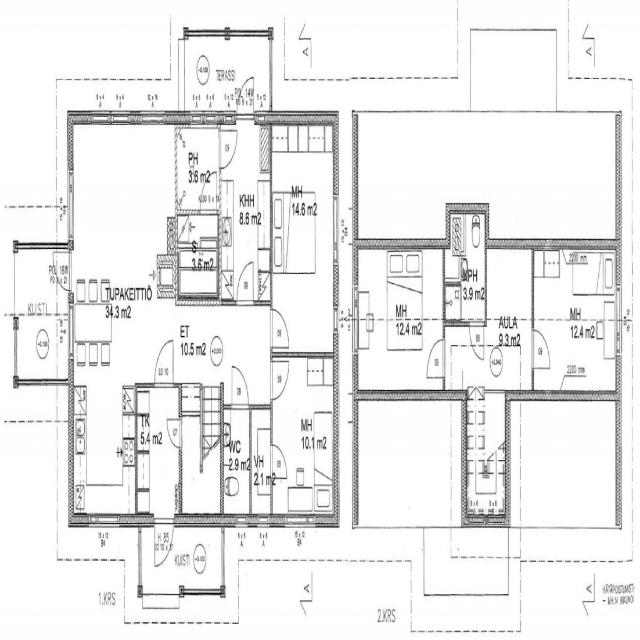door: (155, 518, 173, 566), (155, 340, 173, 387), (236, 75, 254, 119), (200, 170, 217, 215), (270, 309, 289, 348), (270, 361, 289, 399), (531, 330, 550, 368), (237, 262, 253, 305), (53, 252, 71, 290), (219, 130, 237, 168), (427, 339, 445, 377), (232, 366, 248, 408), (469, 321, 484, 360), (270, 444, 286, 478), (168, 419, 181, 448)
